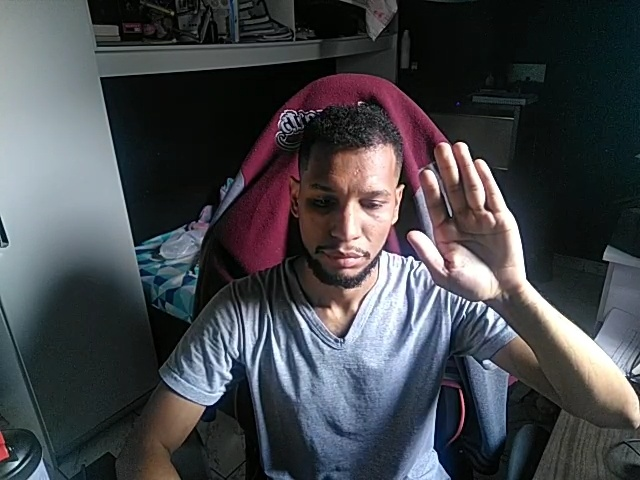oi: (401, 137, 526, 303)
